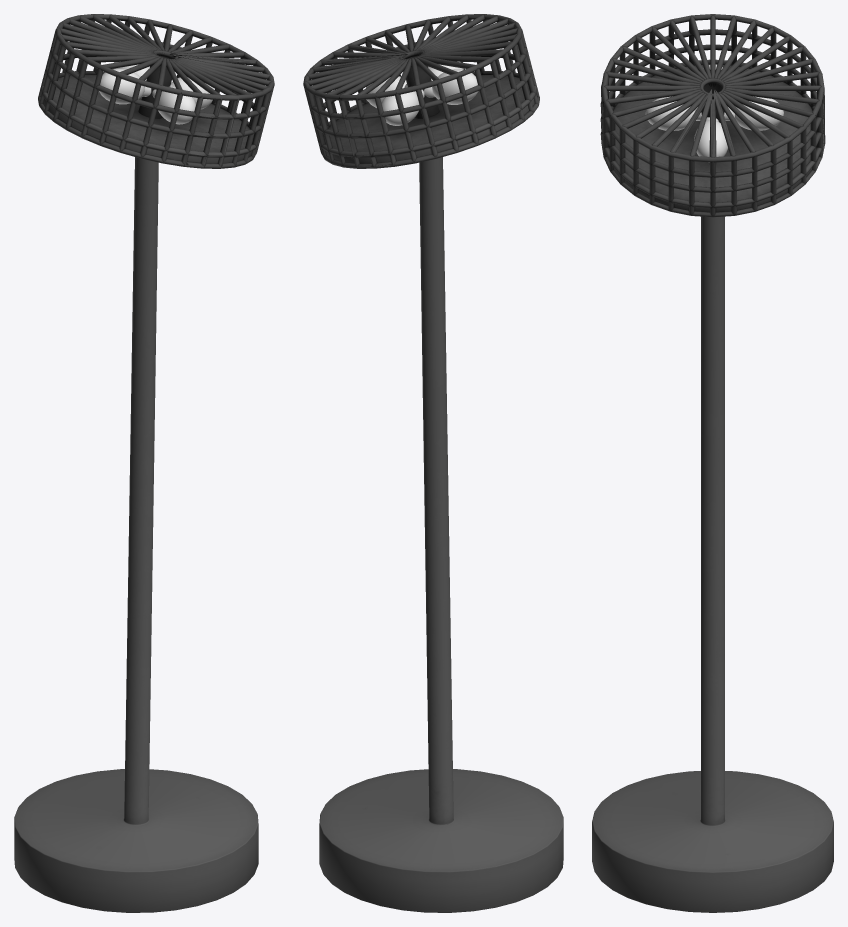
File: lamp.fbx
The picture shows the model from 3 angles, left to right: view 1: azimuth 30°, elevation 25°; view 2: azimuth 150°, elevation 25°; view 3: azimuth 270°, elevation 25°; orthographic projection.
Visible parts, largest first — view 1: Lamp-Applied; view 2: Lamp-Applied; view 3: Lamp-Applied.
Boxes of the visible parts, <box> form: Lamp-Applied: <box>14,14,274,912</box>; Lamp-Applied: <box>303,14,563,912</box>; Lamp-Applied: <box>592,14,833,912</box>.
Bounding box in the file's own units: 43.16 × 149 × 40.
3 materials, 1 textured.
